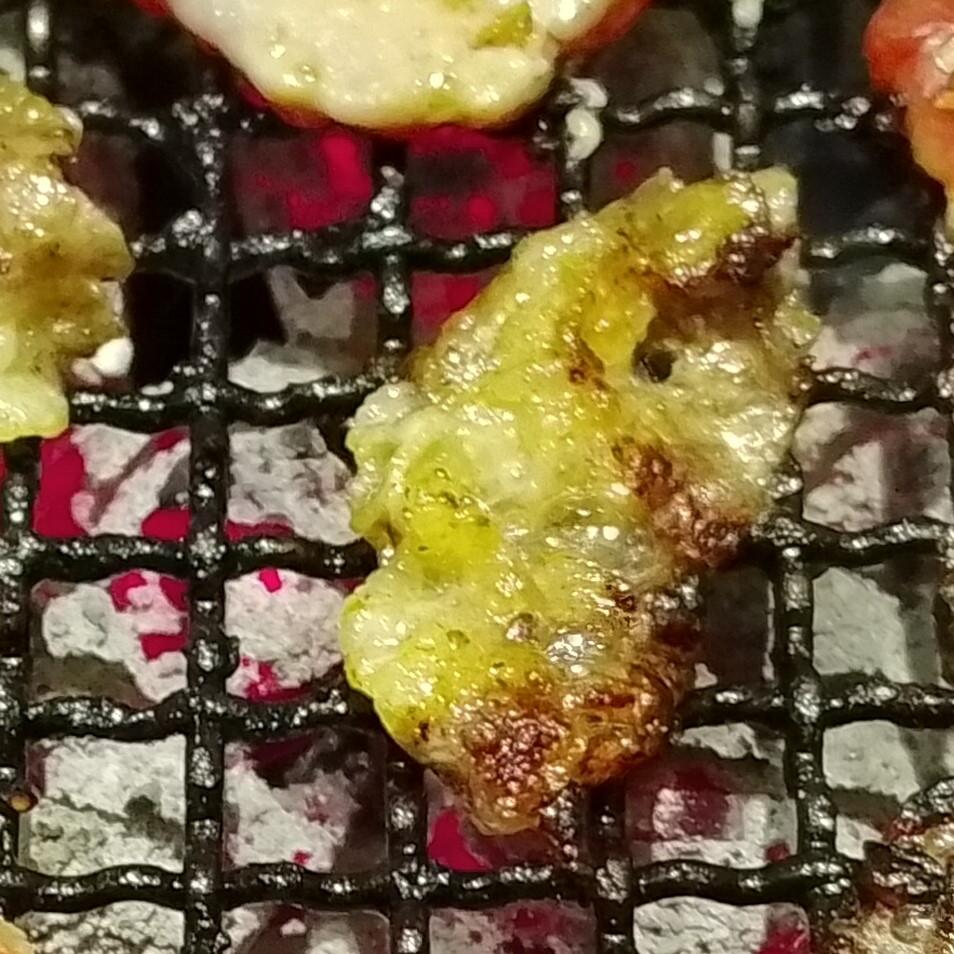Overcooked: (332, 165, 822, 852), (832, 791, 953, 953)
Well-Cooked: (159, 0, 653, 133), (0, 67, 134, 453)
